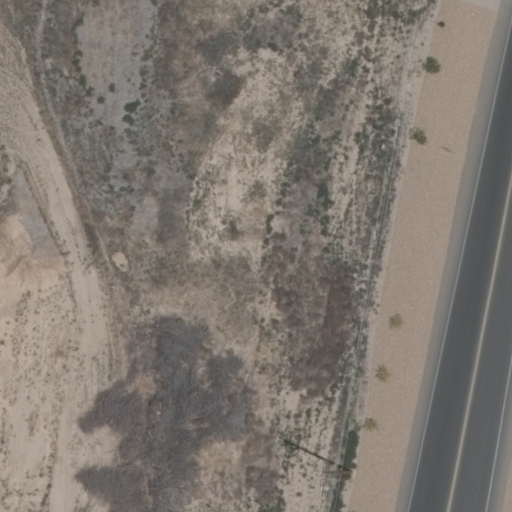DT: (314, 456, 358, 484)
